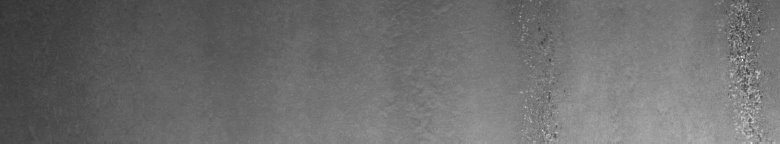hc: (717, 4, 774, 136)
